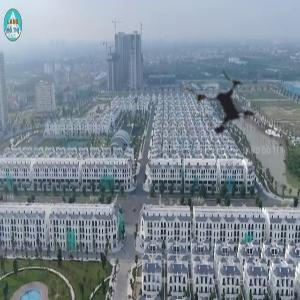drone: (160, 35, 298, 173)
